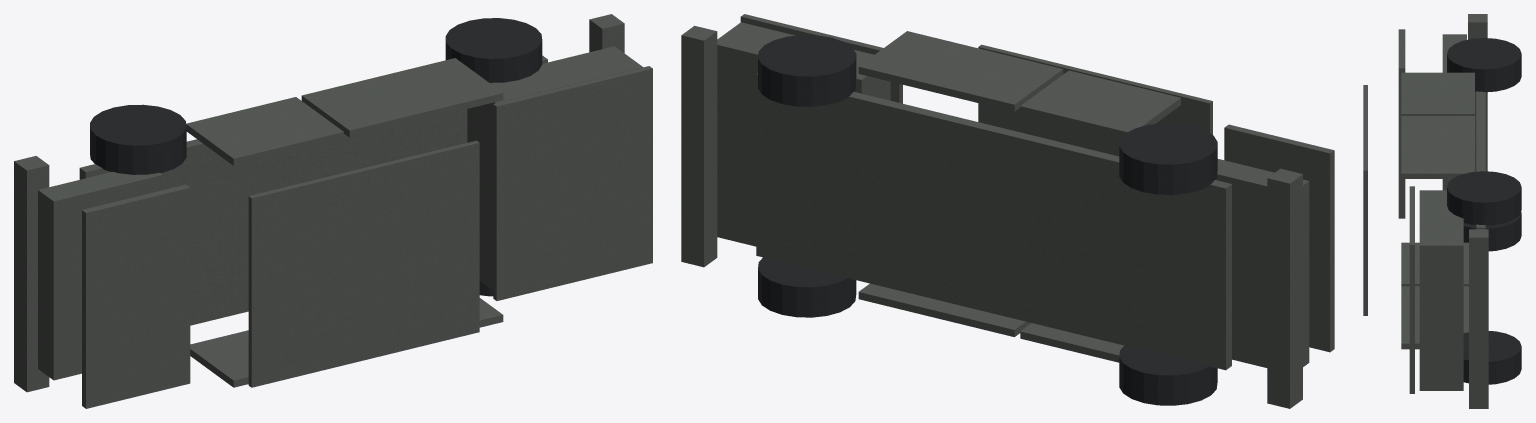
Rendered from PROJECT_Z_Sedan_COLLISION_ONLY.glb.
3 views of the same model, side by side, from view 1: azimuth 30°, elevation 25°; view 2: azimuth 150°, elevation 25°; view 3: azimuth 270°, elevation 25° (orthographic). The views are drawn at different scales.
Parts seen in each view (by area): view 1: UCX_ROOF, UCX_HOOD_CLOSED, UCX_TRUNK_LID_CLOSED, UCX_MAIN_PASSENGER_FLOOR, UCX_REAR_CARGO_WELL, UCX_DOOR_FRONT_RIGHT, UCX_ENGINE_COMPARTMENT, UCX_DOOR_REAR_RIGHT, UCX_REAR_BUMPER, UCX_WHEEL_REAR_RIGHT, UCX_WHEEL_FRONT_RIGHT, UCX_DOOR_REAR_LEFT (+1 smaller); view 2: UCX_MAIN_PASSENGER_FLOOR, UCX_ENGINE_COMPARTMENT, UCX_DOOR_FRONT_RIGHT, UCX_REAR_CARGO_WELL, UCX_FRONT_BUMPER, UCX_REAR_BUMPER, UCX_TRUNK_LID_CLOSED, UCX_DOOR_REAR_RIGHT, UCX_WHEEL_REAR_RIGHT, UCX_WHEEL_FRONT_RIGHT, UCX_ROOF, UCX_WHEEL_REAR_LEFT (+4 smaller); view 3: UCX_ENGINE_COMPARTMENT, UCX_DOOR_FRONT_RIGHT, UCX_FRONT_BUMPER, UCX_WHEEL_FRONT_RIGHT, UCX_DOOR_REAR_RIGHT, UCX_WHEEL_REAR_RIGHT, UCX_WHEEL_FRONT_LEFT, UCX_HOOD_CLOSED, UCX_DOOR_FRONT_LEFT, UCX_ROOF, UCX_TRUNK_LID_CLOSED, UCX_WHEEL_REAR_LEFT (+4 smaller).
Boxes of the visible parts, x1,y1,x2,y2 form: UCX_ROOF: (248,140,479,387); UCX_HOOD_CLOSED: (493,66,652,300); UCX_TRUNK_LID_CLOSED: (82,184,190,408); UCX_MAIN_PASSENGER_FLOOR: (79,55,547,325); UCX_REAR_CARGO_WELL: (38,172,162,380); UCX_DOOR_FRONT_RIGHT: (301,58,503,137); UCX_ENGINE_COMPARTMENT: (467,46,642,290); UCX_DOOR_REAR_RIGHT: (186,97,343,165); UCX_REAR_BUMPER: (14,156,49,392); UCX_WHEEL_REAR_RIGHT: (90,104,186,174); UCX_WHEEL_FRONT_RIGHT: (445,18,542,82); UCX_DOOR_REAR_LEFT: (190,330,248,387); UCX_MAIN_PASSENGER_FLOOR: (756,73,1231,370); UCX_ENGINE_COMPARTMENT: (717,22,890,246); UCX_DOOR_FRONT_RIGHT: (858,31,1063,111); UCX_REAR_CARGO_WELL: (1216,159,1309,367); UCX_FRONT_BUMPER: (681,25,717,267); UCX_REAR_BUMPER: (1267,168,1302,408); UCX_TRUNK_LID_CLOSED: (1224,124,1334,352); UCX_DOOR_REAR_RIGHT: (1020,70,1180,137); UCX_WHEEL_REAR_RIGHT: (1119,123,1217,194); UCX_WHEEL_FRONT_RIGHT: (758,35,856,106); UCX_ROOF: (978,44,1212,156); UCX_WHEEL_REAR_LEFT: (1119,345,1217,405); UCX_ENGINE_COMPARTMENT: (1419,190,1463,390); UCX_DOOR_FRONT_RIGHT: (1401,116,1474,178); UCX_FRONT_BUMPER: (1469,229,1488,408); UCX_WHEEL_FRONT_RIGHT: (1447,171,1521,225); UCX_DOOR_REAR_RIGHT: (1401,72,1474,115); UCX_WHEEL_REAR_RIGHT: (1447,38,1521,92); UCX_WHEEL_FRONT_LEFT: (1463,331,1521,384); UCX_HOOD_CLOSED: (1409,186,1414,393); UCX_DOOR_FRONT_LEFT: (1401,286,1468,349); UCX_ROOF: (1363,85,1367,315); UCX_TRUNK_LID_CLOSED: (1398,29,1405,218); UCX_WHEEL_REAR_LEFT: (1463,212,1521,251).
Bounding box in the file's own units: 4.83 × 1.83 × 1.44.
Materials: 2 (2 with a texture image).
